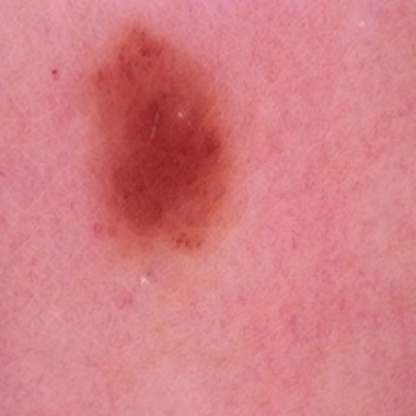benign: (92, 47, 242, 250)
